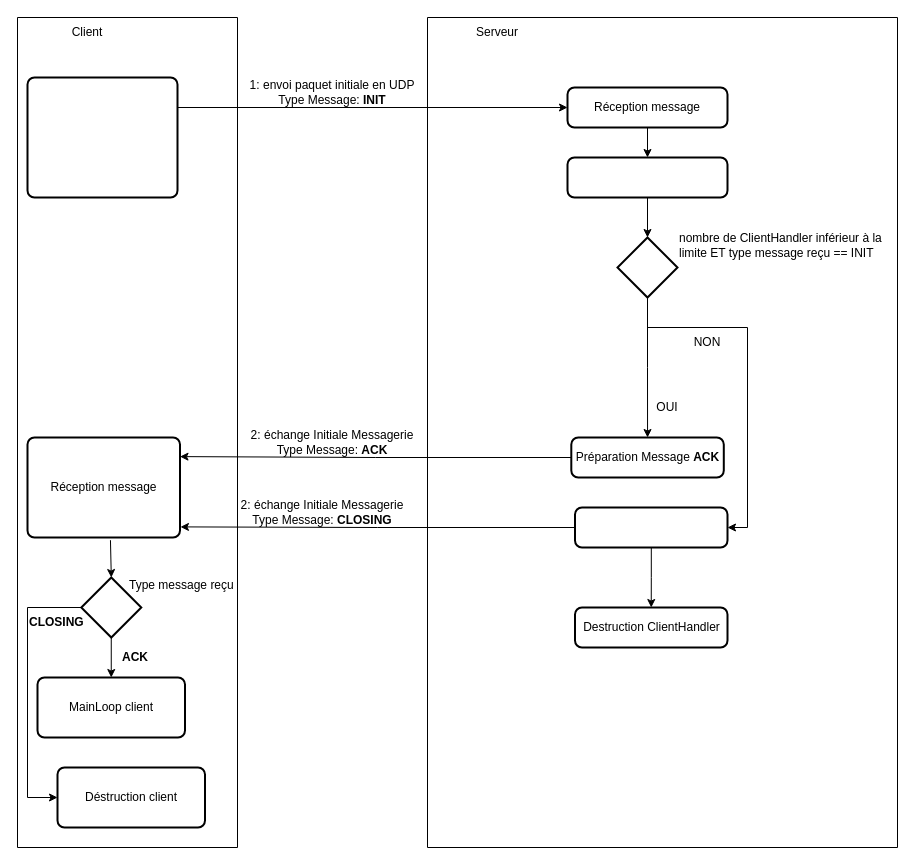
Image size: 915x865. Some labels were removed from this diagram. The shapes that lost their labels are listed below. From the top down, each one's centre as x and y in pixels, then its label:
At (x=102, y=137): "Création Client avec le Runnable UDP".
At (x=647, y=177): "Création ClientHandler".
At (x=651, y=527): "Préparation Message CLOSING".
